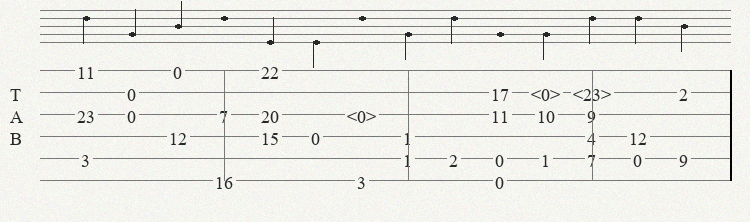0: (127, 106, 140, 122), (127, 84, 140, 100), (173, 62, 186, 78), (311, 128, 324, 144), (495, 150, 508, 166), (495, 172, 508, 188), (633, 150, 646, 166)
1: (403, 128, 416, 144), (403, 150, 416, 166), (541, 150, 554, 166)
10: (537, 106, 559, 122)
11: (77, 62, 99, 78), (491, 106, 513, 122)
12: (169, 128, 191, 144), (629, 128, 651, 144)
15: (261, 128, 283, 144)
16: (215, 172, 237, 188)
17: (491, 84, 513, 100)
2: (449, 150, 462, 166), (679, 84, 692, 100)
20: (261, 106, 283, 122)
22: (261, 62, 283, 78)
23: (77, 106, 99, 122)
3: (81, 150, 94, 166), (357, 172, 370, 188)
4: (587, 128, 600, 144)
7: (219, 106, 232, 122), (587, 150, 600, 166)
9: (587, 106, 600, 122), (679, 150, 692, 166)
harmonic: (573, 84, 615, 100), (347, 106, 380, 122), (531, 84, 564, 100)
